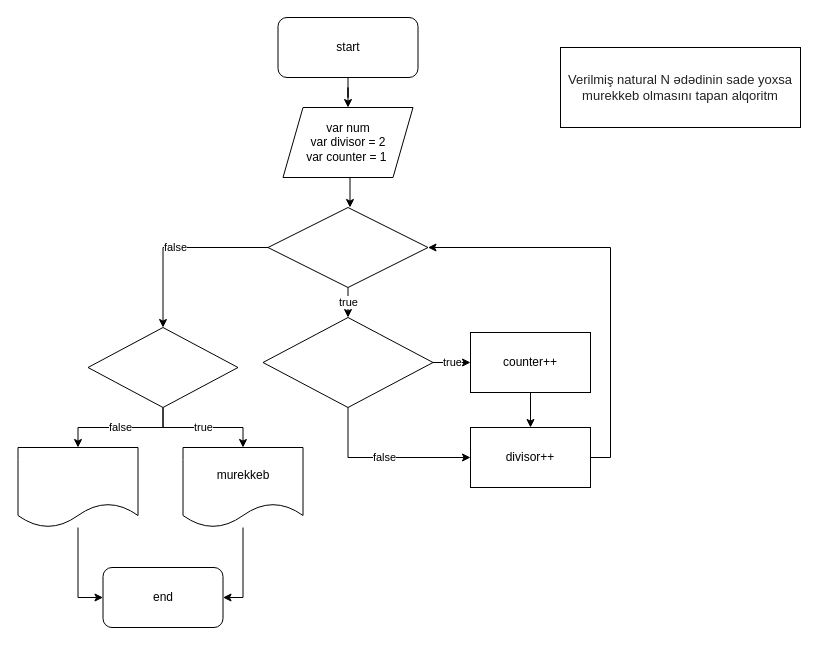
The diagram is 818 pixels wide and 645 high, and some of its shapes have lost their labels. Each missing label, with the centre of its shape:
counter > 2: (162,367)
num%divisor==0: (347,362)
num>divisor: (347,247)
sade: (77,487)
